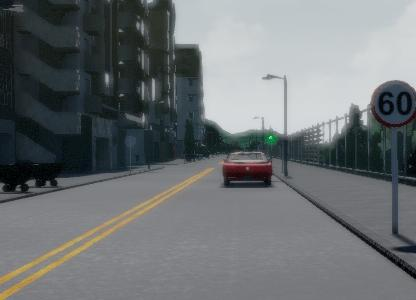Speed_60: (368, 83, 416, 129)
